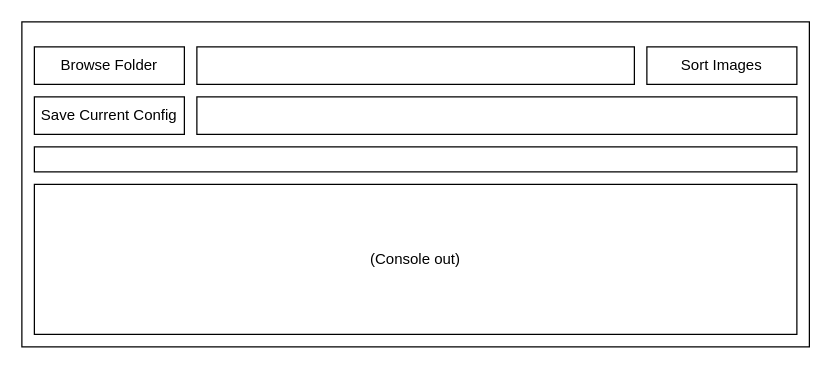
Some shapes in this 831 by 369 pixel diagram are drawn without their labels. The shapes that lost their labels are listed below. From the top down, each one's centre as x and y in pixels, then its label:
At (496,115): "Select images format which you verified: <--- images format --->".
At (415,159): "(Progress bar)".
